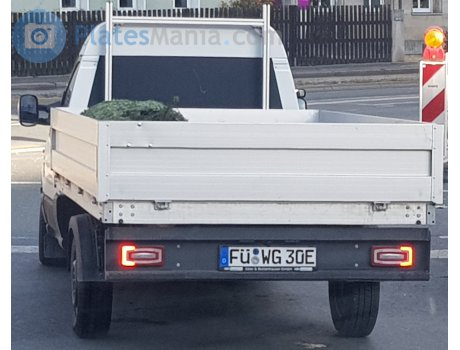License Plates: (221, 242, 315, 265)
